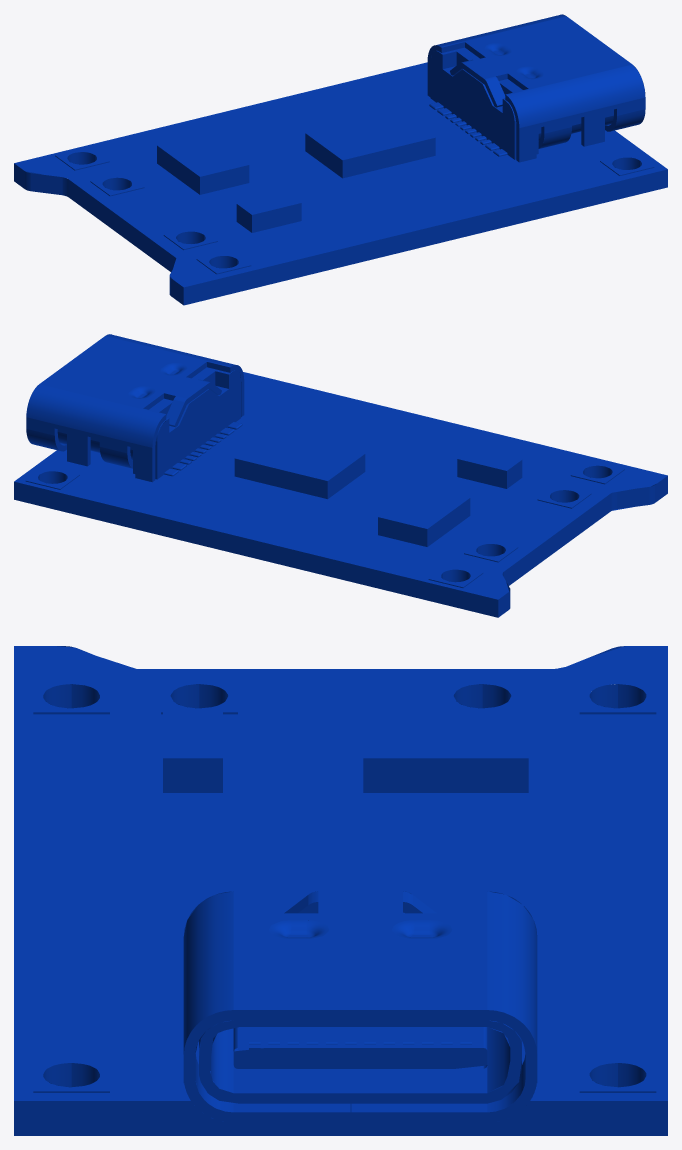
Rendered from Charge.fbx.
3 views of the same model, one above another, from view 1: azimuth 30°, elevation 25°; view 2: azimuth 150°, elevation 25°; view 3: azimuth 270°, elevation 25° (orthographic). The views are drawn at different scales.
Parts seen in each view (by area): view 1: Charge; view 2: Charge; view 3: Charge.
Boxes of the visible parts, x1,y1,x2,y2 form: Charge: (14,14,667,305); Charge: (14,334,667,617); Charge: (14,646,667,1135).
Size of the model in its own units: 2.93 by 0.46 by 1.7.
